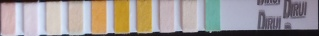color 1: (2, 5, 13, 34)
color 10: (206, 1, 218, 28)
color 2: (24, 4, 36, 34)
color 3: (47, 3, 60, 33)
color 4: (70, 3, 81, 33)
color 5: (93, 2, 105, 32)
color 6: (115, 2, 127, 31)
color 7: (138, 1, 150, 30)
color 8: (161, 2, 172, 30)
color 9: (183, 2, 197, 30)
